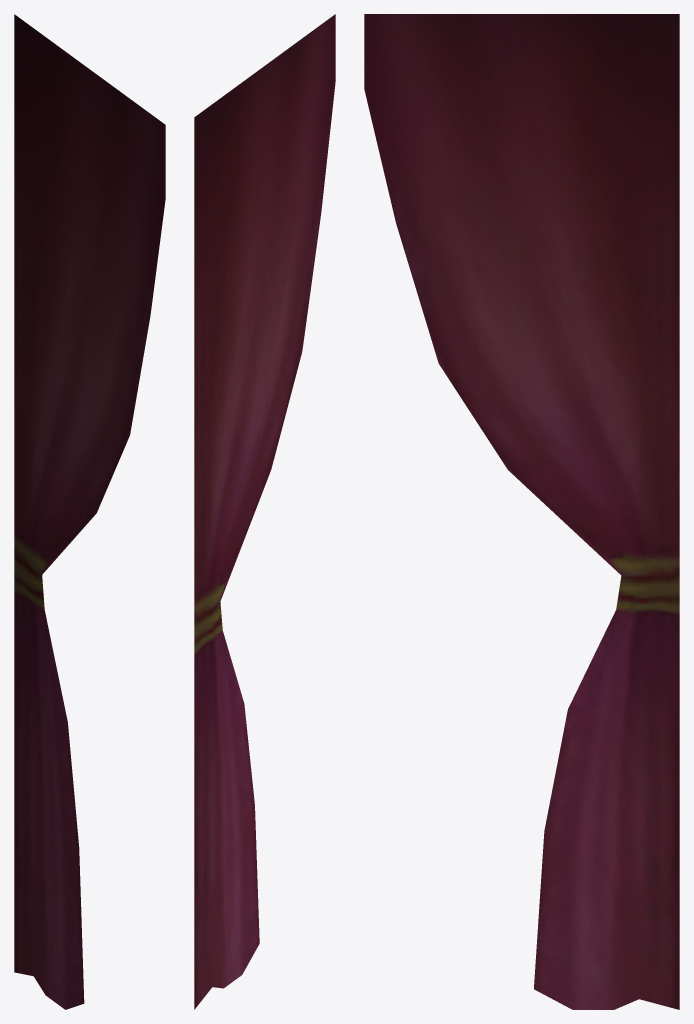
Rendered from yw_langhuanfudi_zhuzi02.FBX.
The picture shows the model from 3 angles, left to right: view 1: azimuth 30°, elevation 25°; view 2: azimuth 150°, elevation 25°; view 3: azimuth 270°, elevation 25°; orthographic projection. The views are drawn at different scales.
Visible parts, largest first — view 1: yw_langhuanfudi_zhuzi02; view 2: yw_langhuanfudi_zhuzi02; view 3: yw_langhuanfudi_zhuzi02.
Boxes of the visible parts, x1,y1,x2,y2 form: yw_langhuanfudi_zhuzi02: (14, 14, 165, 1009); yw_langhuanfudi_zhuzi02: (194, 14, 335, 1009); yw_langhuanfudi_zhuzi02: (364, 14, 679, 1009).
Size of the model in its own units: 0.000366 by 514 by 147.
